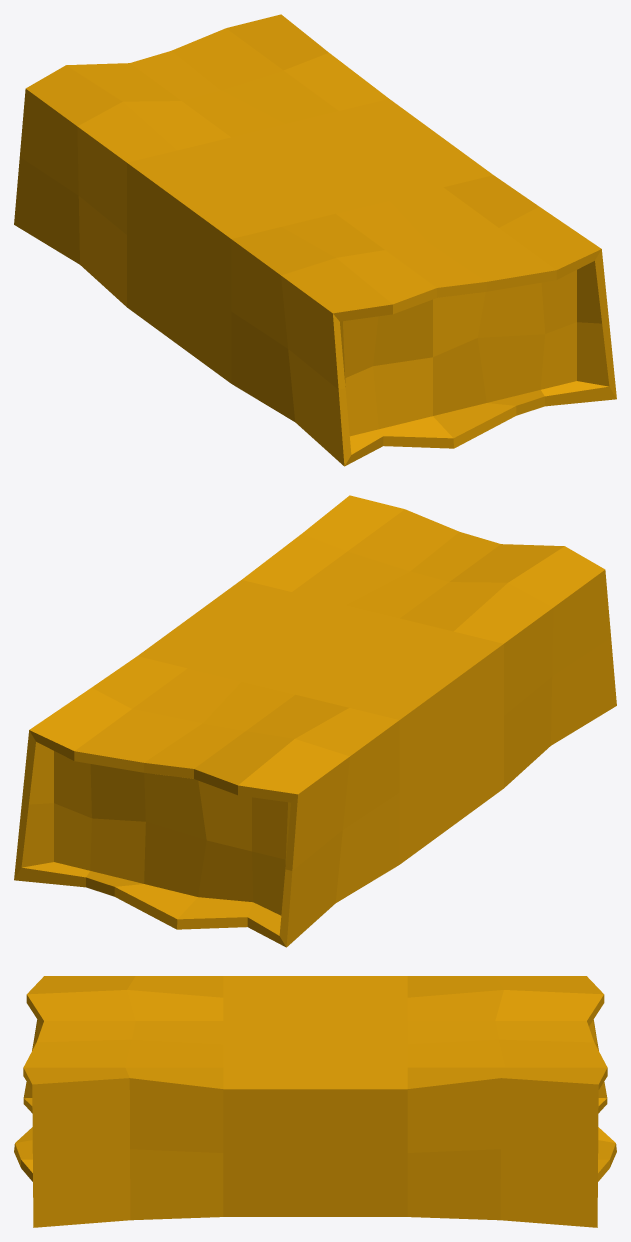
The model's file is square_hay_2.FBX.
3 views of the same model, one above another, from view 1: azimuth 30°, elevation 25°; view 2: azimuth 150°, elevation 25°; view 3: azimuth 270°, elevation 25° (orthographic). The views are drawn at different scales.
Parts seen in each view (by area): view 1: square_hay_2; view 2: square_hay_2; view 3: square_hay_2.
Part boxes in pixels (x1,y1,x2,y2): square_hay_2: [14, 14, 616, 466]; square_hay_2: [14, 495, 616, 947]; square_hay_2: [14, 976, 616, 1227].
Bounding box in the file's own units: 0.4786 × 0.2706 × 1.02.
Materials: 1 (1 with a texture image).
